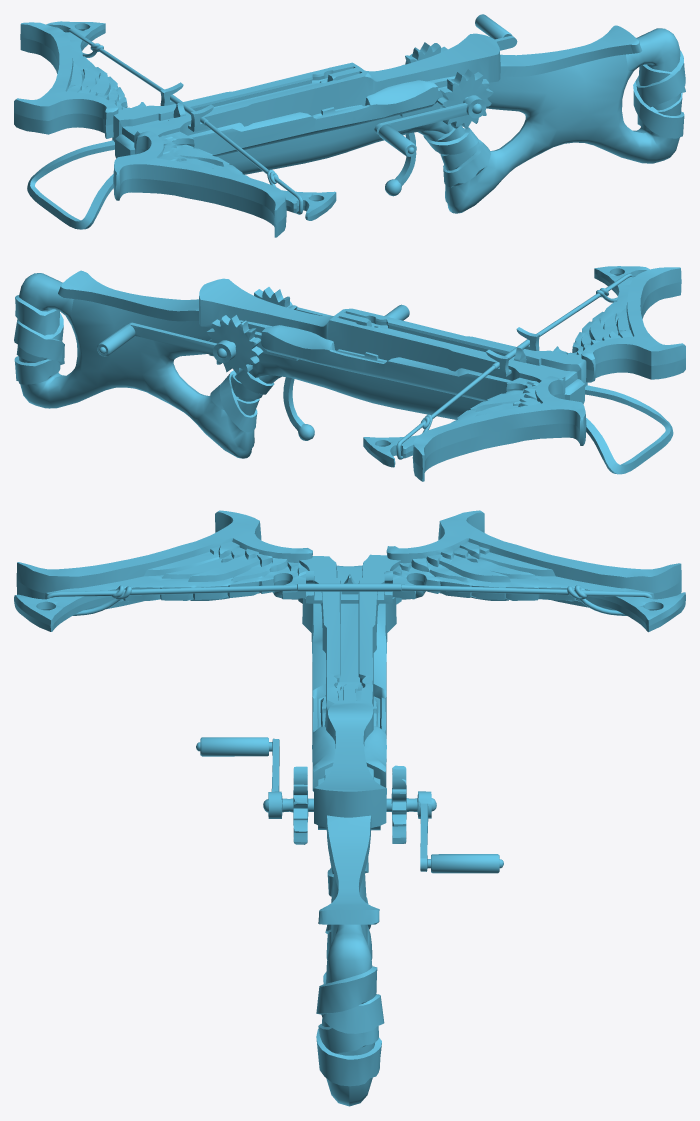
File: SM_Rune_Crossbow_3.fbx
3 renders of one model, top to bottom at view 1: azimuth 30°, elevation 25°; view 2: azimuth 150°, elevation 25°; view 3: azimuth 270°, elevation 25°, orthographic. The views are drawn at different scales.
Parts seen in each view (by area): view 1: SM_Rune_Crossbow_3; view 2: SM_Rune_Crossbow_3; view 3: SM_Rune_Crossbow_3.
Boxes of the visible parts, left/top/right/bottom form: SM_Rune_Crossbow_3: left=14, top=14, right=685, bottom=237; SM_Rune_Crossbow_3: left=14, top=266, right=685, bottom=481; SM_Rune_Crossbow_3: left=14, top=510, right=685, bottom=1106.
Bounding box in the file's own units: 1.09 × 0.2986 × 0.7758.
